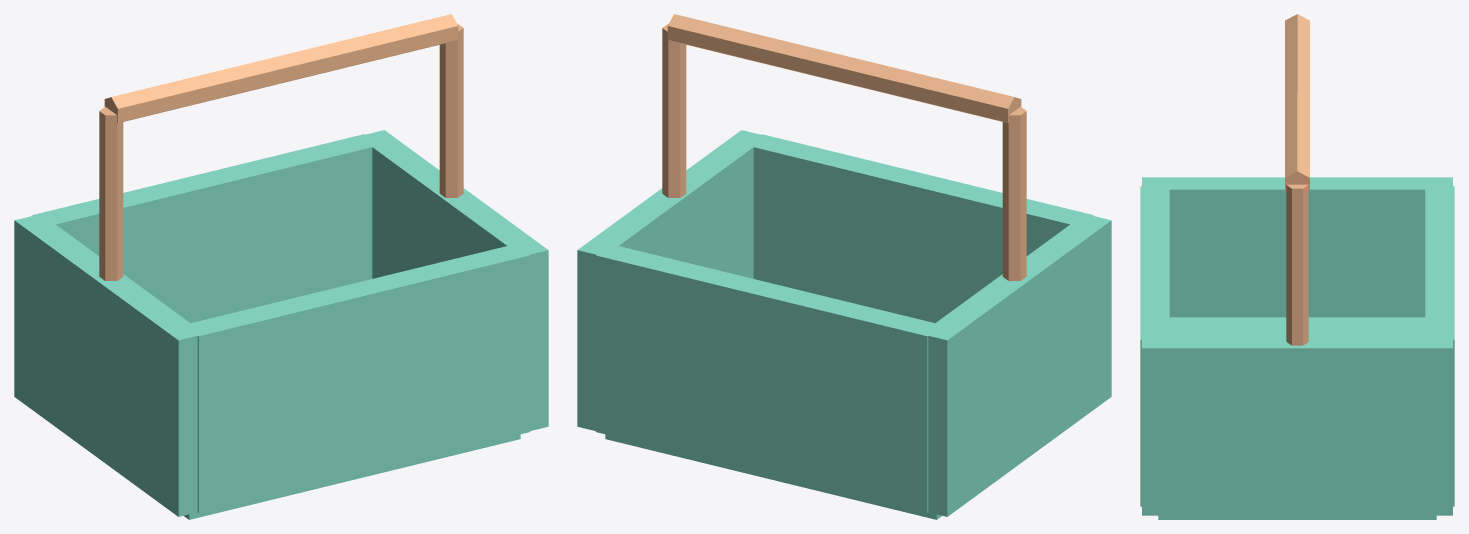
3 renders of one model, left to right at view 1: azimuth 30°, elevation 25°; view 2: azimuth 150°, elevation 25°; view 3: azimuth 270°, elevation 25°, orthographic. The views are drawn at different scales.
Parts seen in each view (by area): view 1: Bin end, Bin end.001, Bin side, Bin side.001, Handle, Handle side, Handle side.001, Bin bottom; view 2: Bin end.001, Bin side, Bin end, Bin side.001, Handle, Handle side, Handle side.001, Bin bottom; view 3: Bin side.001, Bin side, Bin bottom, Bin end.001, Bin end, Handle, Handle side.001.
Boxes of the visible parts, x1,y1,x2,y2 form: Bin end: (191, 246, 530, 512); Bin end.001: (32, 134, 379, 323); Bin side: (14, 215, 204, 516); Bin side.001: (365, 130, 548, 430); Handle: (104, 14, 458, 122); Handle side: (99, 106, 123, 280); Handle side.001: (439, 23, 463, 197); Bin bottom: (184, 434, 520, 519); Bin end.001: (595, 244, 942, 512); Bin side: (928, 214, 1111, 516); Bin end: (753, 134, 1093, 323); Bin side.001: (577, 130, 767, 430); Handle: (667, 14, 1021, 122); Handle side: (1002, 106, 1026, 280); Handle side.001: (662, 23, 686, 197); Bin bottom: (605, 434, 941, 519); Bin side.001: (1142, 336, 1452, 515); Bin side: (1142, 177, 1452, 317); Bin bottom: (1158, 317, 1436, 519); Bin end.001: (1425, 186, 1454, 506); Bin end: (1140, 186, 1169, 506); Handle: (1285, 14, 1309, 191); Handle side.001: (1286, 184, 1308, 345).
Bounding box in the file's own units: 50 × 47.8 × 38.8.
